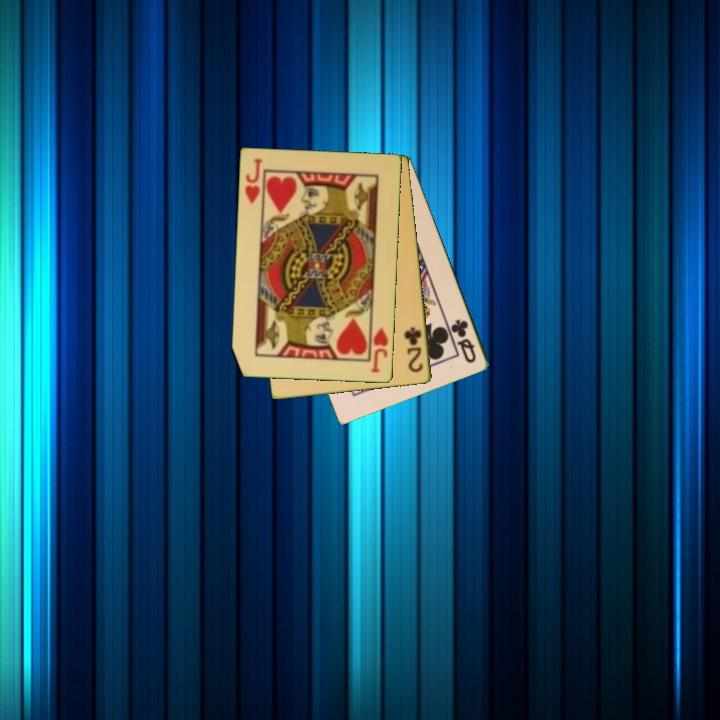2c: (401, 323, 426, 376)
Jh: (368, 324, 392, 376), (242, 156, 265, 207)
Qc: (447, 315, 480, 366)
